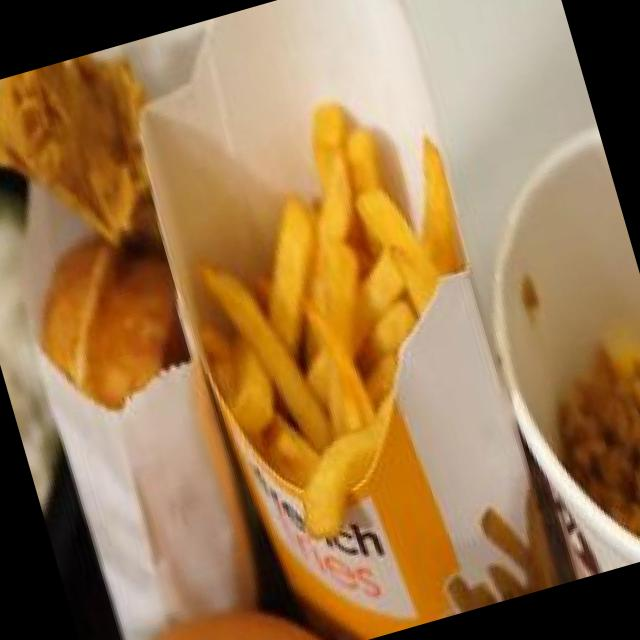chicken waffle: (0, 35, 288, 478)
french fries: (128, 38, 550, 590)
